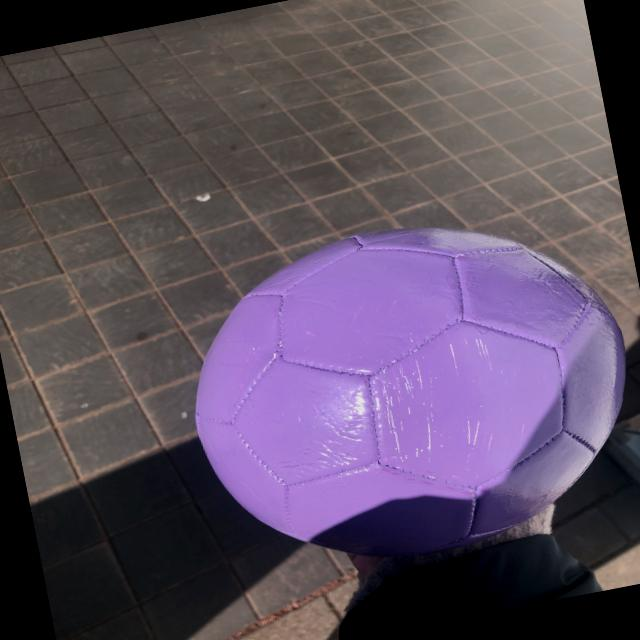purple_ball: (156, 190, 640, 591)
